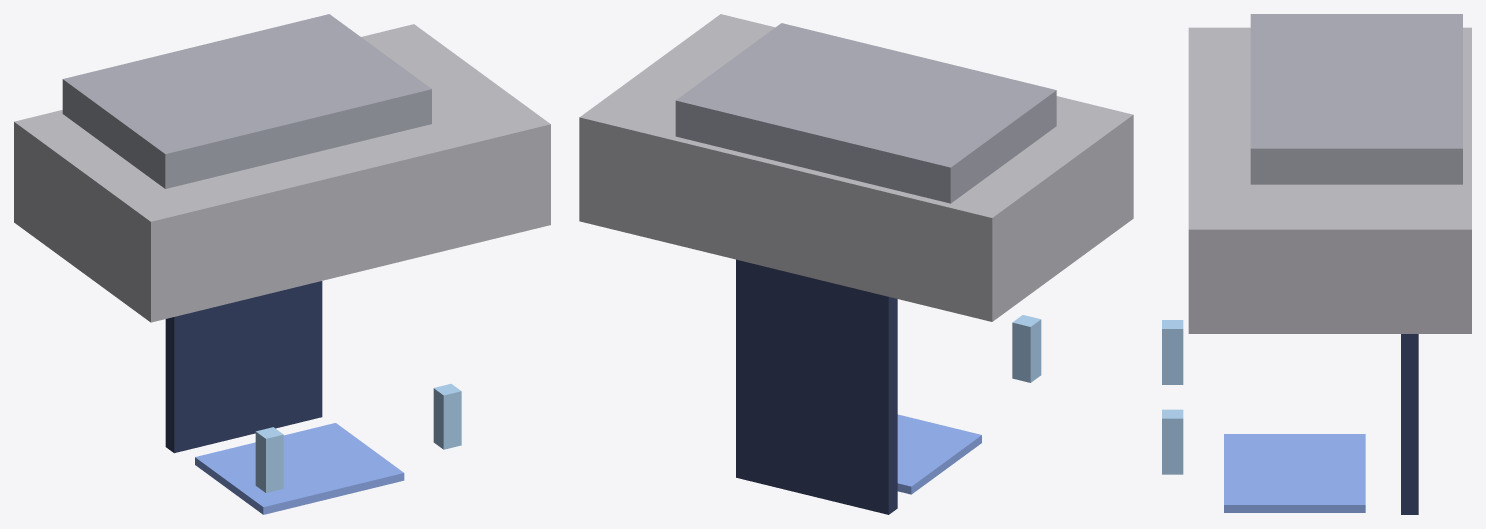
File: cave-arch.gltf
3 renders of one model, left to right at view 1: azimuth 30°, elevation 25°; view 2: azimuth 150°, elevation 25°; view 3: azimuth 270°, elevation 25°, orthographic. The views are drawn at different scales.
Visible parts, largest first — view 1: caveArch; view 2: caveArch; view 3: caveArch.
Part boxes in pixels (x1,y1,x2,y2): caveArch: (14,14,550,514); caveArch: (579,14,1133,514); caveArch: (1162,14,1471,514).
Bounding box in the file's own units: 2.7 × 2.4 × 1.75.
